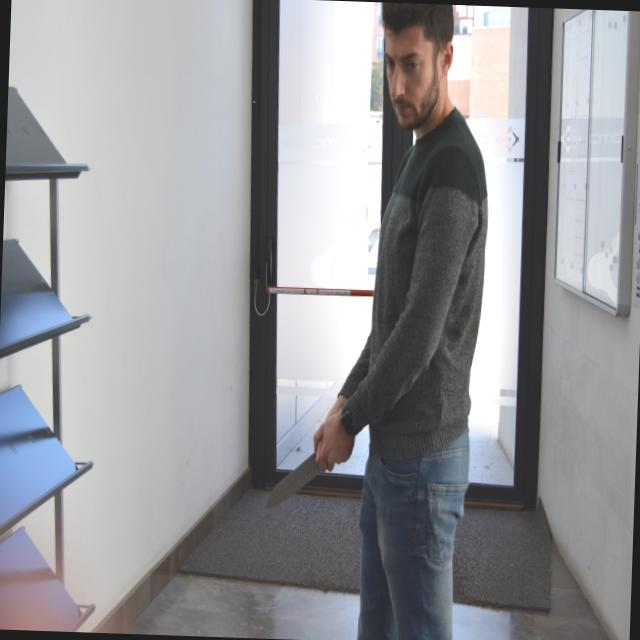knife: (262, 441, 330, 514)
